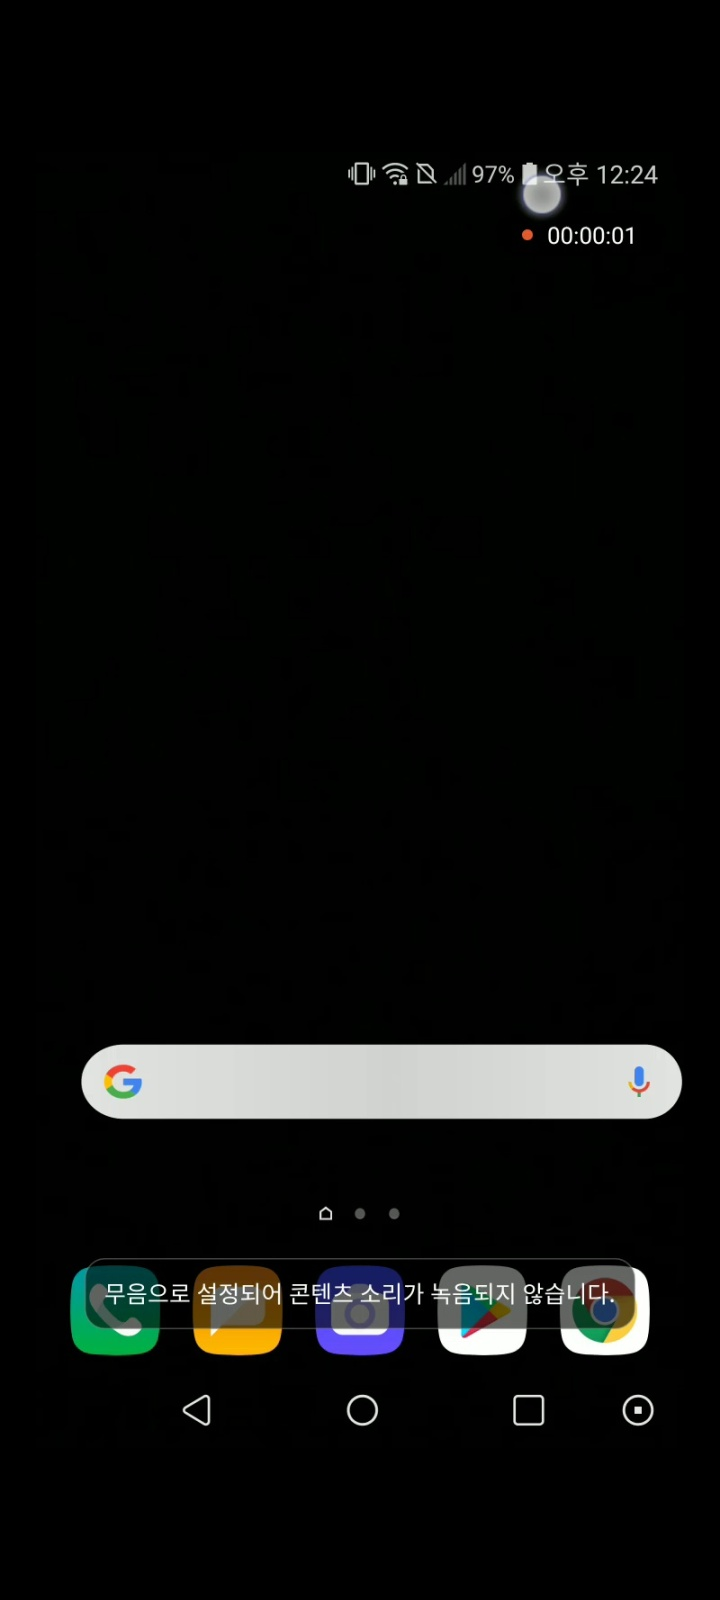Cursor: (521, 173, 566, 219)
